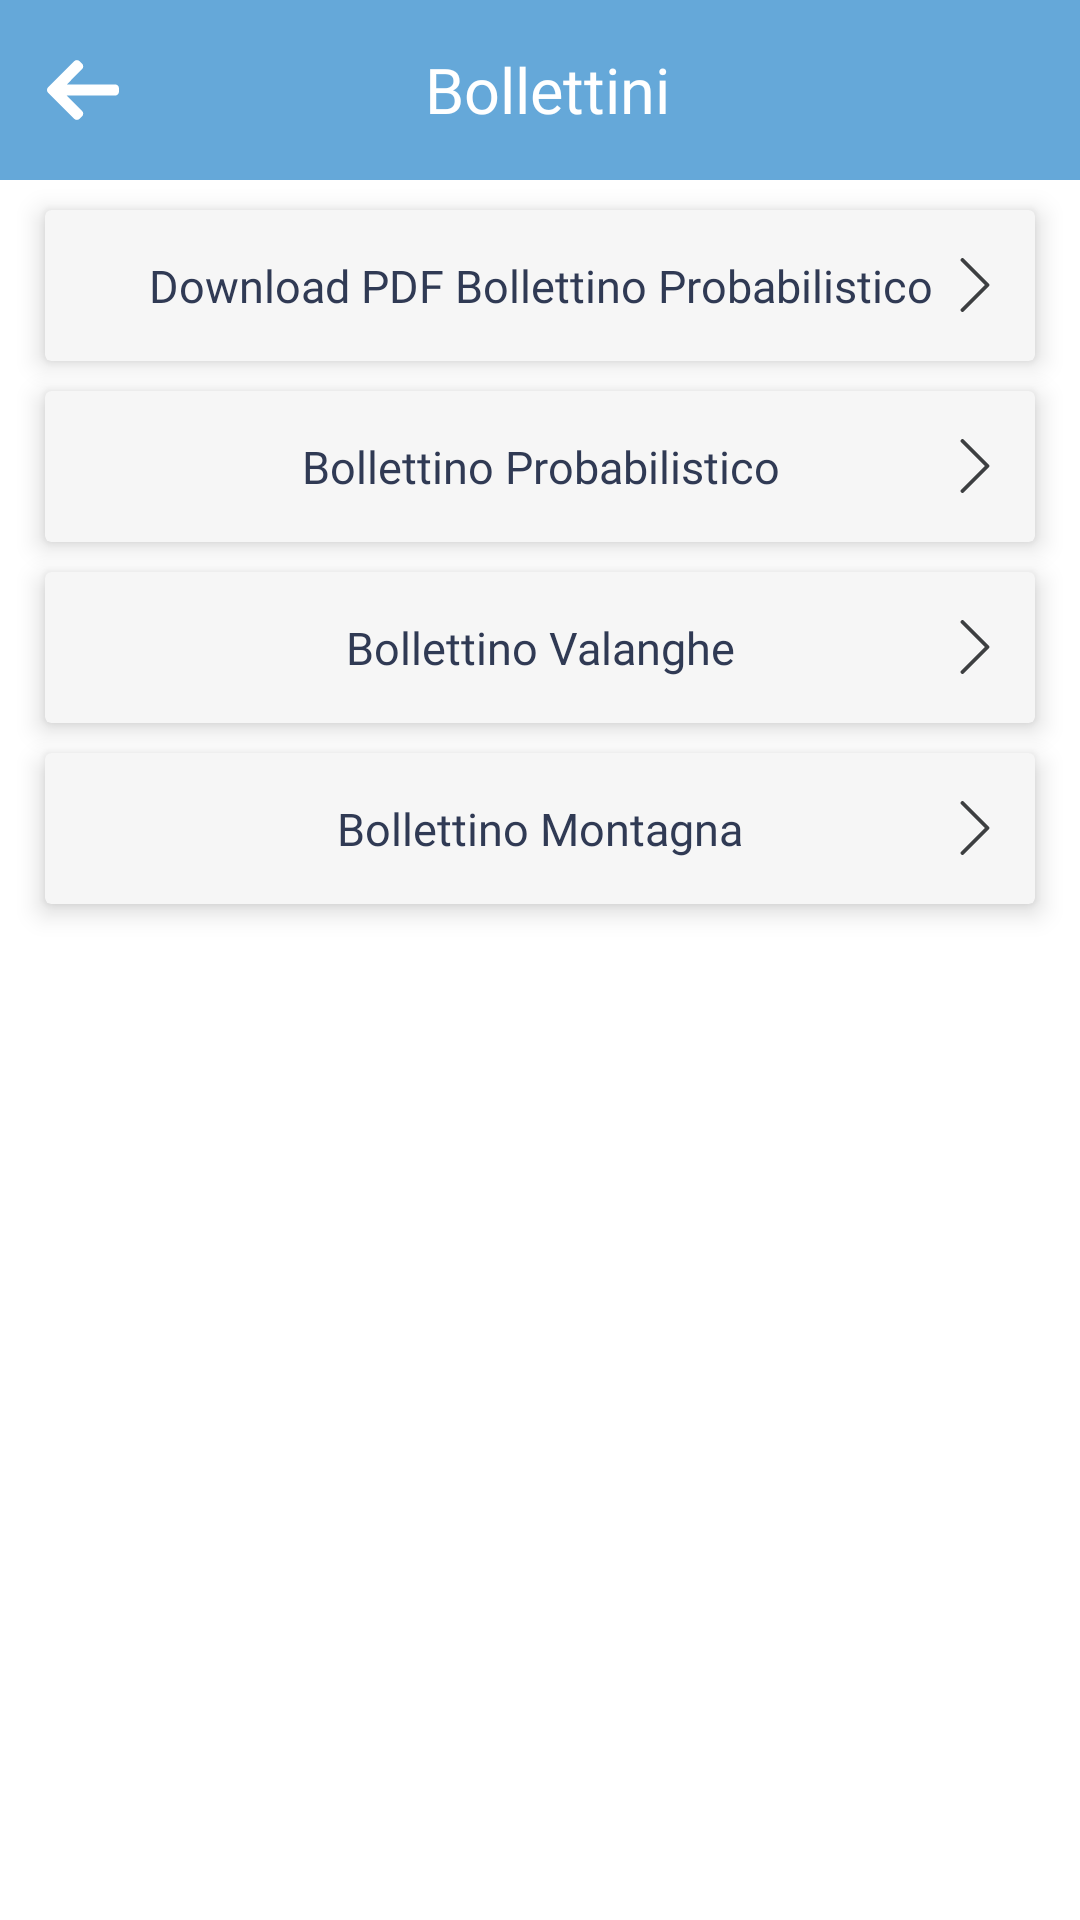

Where icons sit on this 1080x1920 app screen, as (left=x1, top=y1, right=x2, bottom=y2):
arrow back: (left=47, top=60, right=119, bottom=120)
arrow right: (left=960, top=258, right=990, bottom=312), (left=960, top=439, right=990, bottom=493), (left=960, top=620, right=990, bottom=674), (left=960, top=801, right=990, bottom=855)
